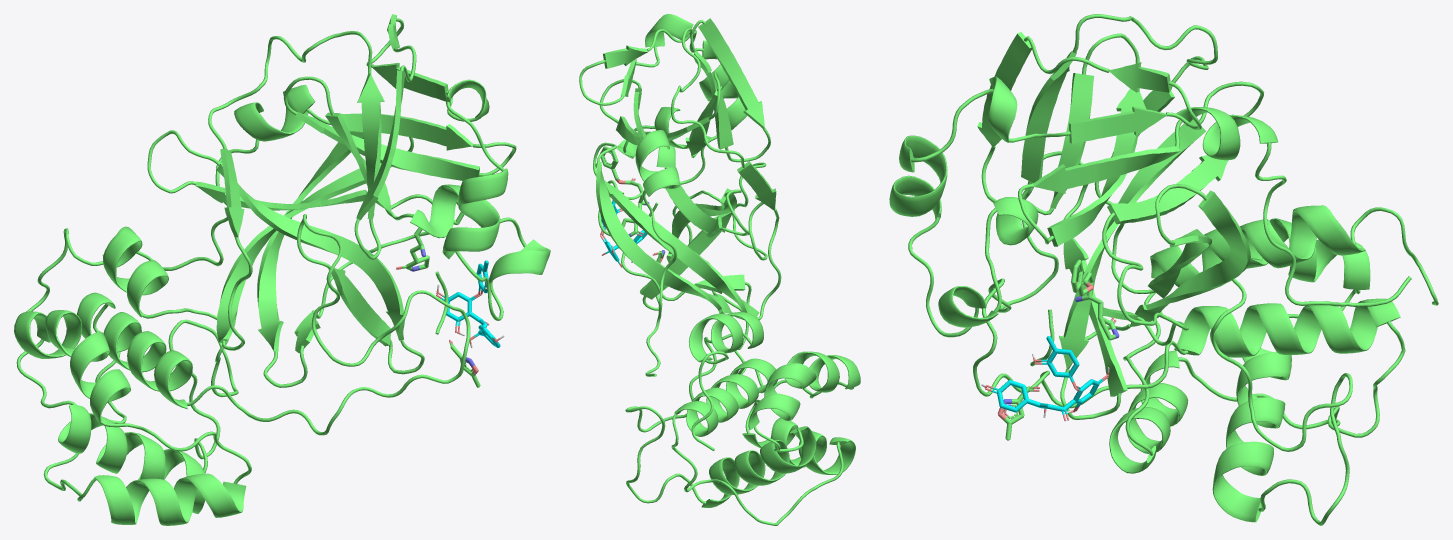
The model's file is fdf2n3l4749gvmo3.gltf.
3 views of the same model, side by side, from view 1: azimuth 30°, elevation 25°; view 2: azimuth 150°, elevation 25°; view 3: azimuth 270°, elevation 25° (orthographic). The views are drawn at different scales.
Visible parts, largest first — view 1: node-geom69, node-geom70, node-geom71; view 2: node-geom69, node-geom70, node-geom71; view 3: node-geom69, node-geom70, node-geom71.
Boxes of the visible parts, box(x1,y1,x2,y2) form: node-geom69: box(136, 14, 550, 387); node-geom70: box(14, 214, 470, 525); node-geom71: box(26, 226, 448, 334); node-geom69: box(579, 14, 781, 376); node-geom70: box(625, 162, 860, 525); node-geom71: box(648, 202, 759, 450); node-geom69: box(889, 14, 1411, 369); node-geom70: box(973, 151, 1405, 525); node-geom71: box(1030, 205, 1438, 366).
Size of the model in its own units: 45.96 by 60 by 53.36.
